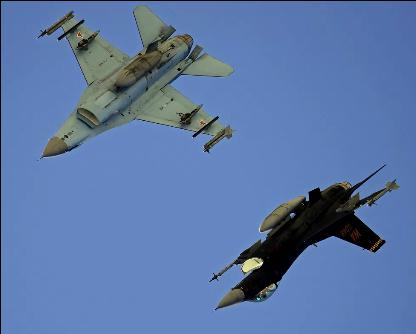F14: (36, 1, 236, 160), (206, 163, 400, 311)
